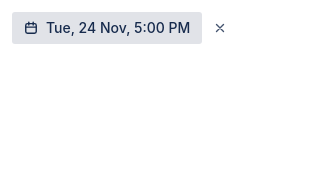
Test: DateTimeField › clears both date and time
Click the button named "clear due date": (220, 28) top-left (206, 14), bottom-right (234, 42)
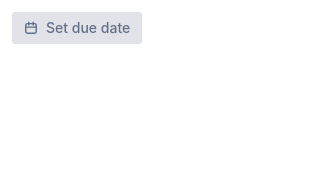
Expected: the text "Set due date" is shown, top-left (46, 18), bottom-right (130, 38)
